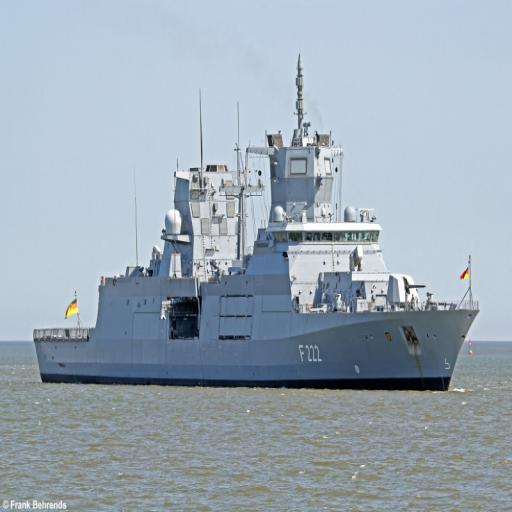Fragata: (34, 34, 485, 400)
